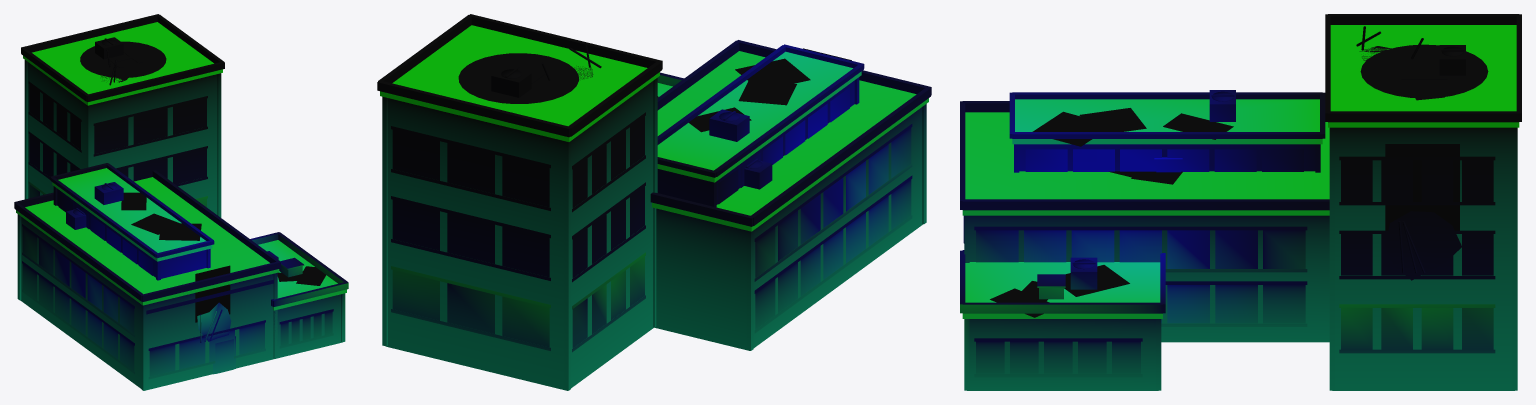
File: s_hq_damaged.glb
The picture shows the model from 3 angles, left to right: view 1: azimuth 30°, elevation 25°; view 2: azimuth 150°, elevation 25°; view 3: azimuth 270°, elevation 25°; orthographic projection. The views are drawn at different scales.
Visible parts, largest first — view 1: lod0; view 2: lod0; view 3: lod0.
Part boxes in pixels (x1,y1,x2,y2): lod0: (14,14,348,390); lod0: (377,14,931,390); lod0: (960,14,1521,390).
Size of what is drawn, in the model's own units: 20.49 by 18.55 by 31.7.
